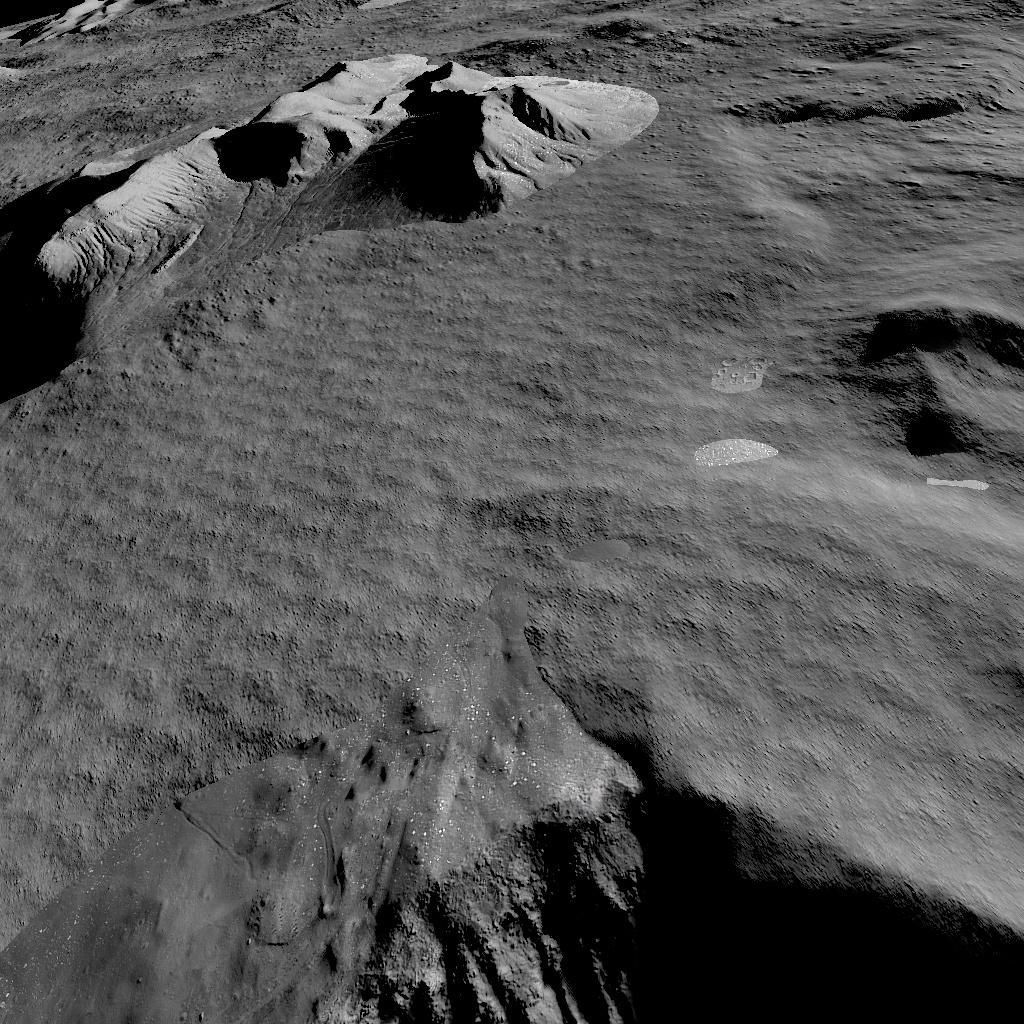Boulders: (2, 0, 668, 381)
Crater: (3, 632, 1024, 1024), (827, 270, 1024, 488), (716, 70, 978, 168)
Plan surface: (0, 414, 804, 602)
